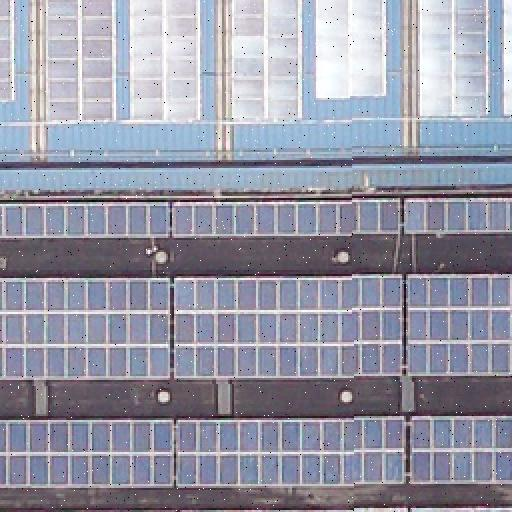solar-panel: (0, 417, 404, 487), (173, 275, 403, 381), (0, 277, 168, 379), (408, 274, 512, 374), (224, 0, 300, 122), (127, 0, 201, 122), (172, 201, 400, 239), (416, 1, 488, 119), (44, 0, 112, 122), (408, 413, 512, 483), (314, 0, 386, 100), (0, 201, 168, 239), (401, 198, 511, 234), (1, 1, 15, 103), (193, 505, 407, 511), (504, 1, 512, 119), (409, 505, 511, 511)
